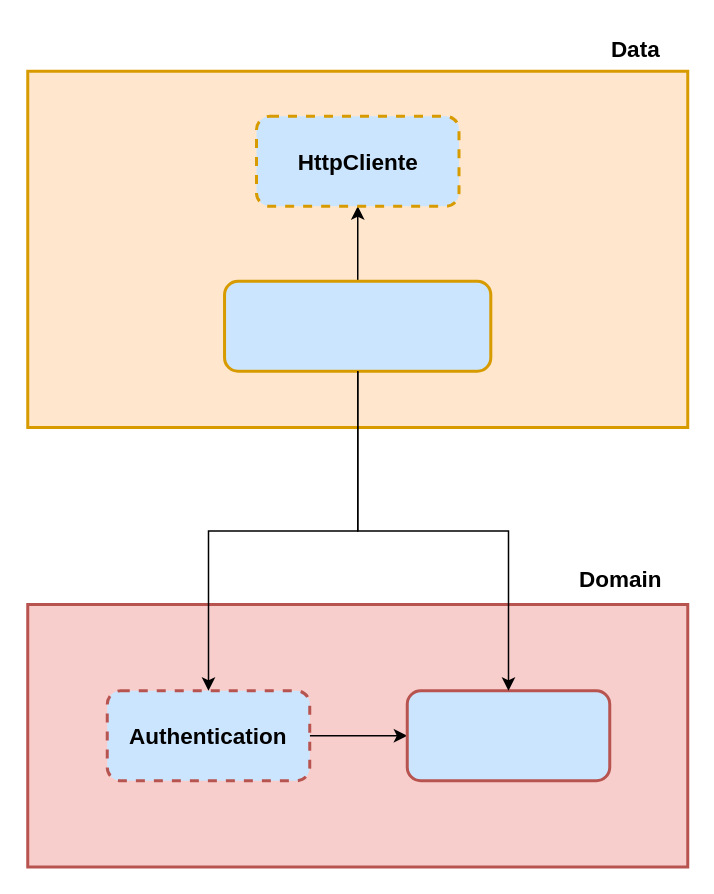
Some shapes in this 714 by 894 pixel diagram are drawn without their labels. Here are the shapes that lost their labels. From the top down, the centre of each, then its label:
At point 357,325: "RemoteAuthentication".
At point 507,735: "Account".
